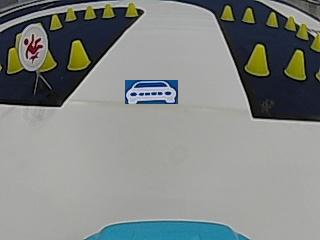cone: (245, 44, 270, 77), (284, 49, 306, 82), (67, 40, 90, 71), (6, 48, 20, 74), (101, 4, 116, 20), (82, 4, 96, 20), (48, 13, 60, 31), (126, 1, 139, 17), (222, 6, 234, 23), (267, 11, 279, 27), (64, 9, 78, 22), (286, 14, 295, 32), (243, 7, 253, 23), (299, 24, 308, 39)
tumble: (19, 29, 48, 63), (311, 31, 319, 51)
